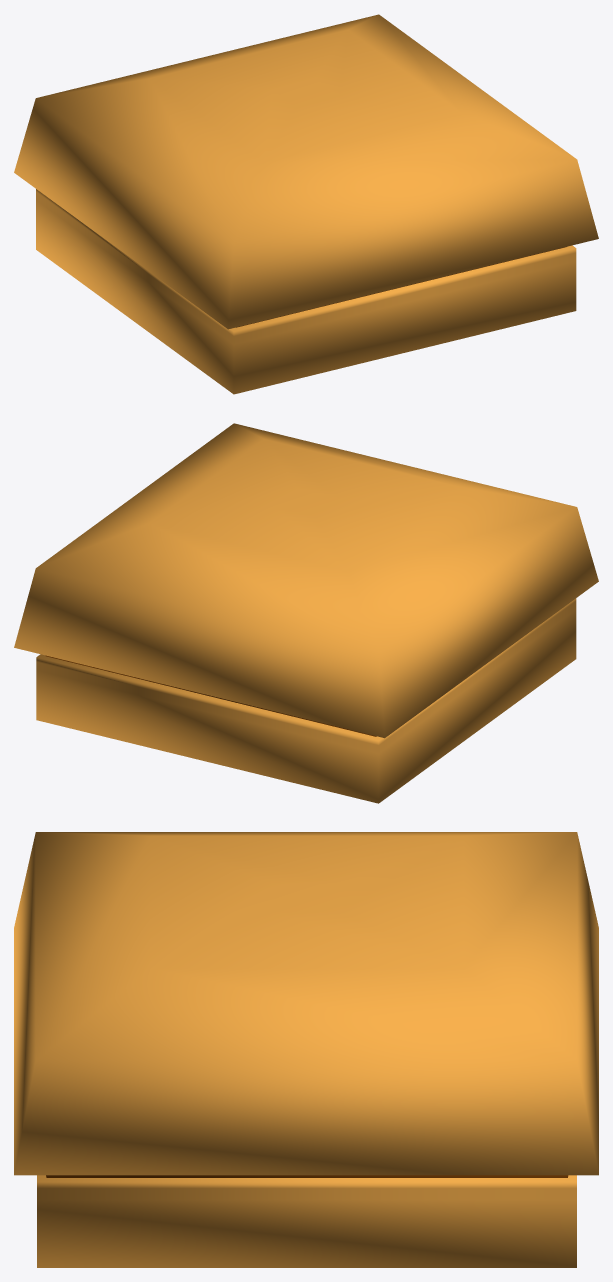
Rendered from hamburger.glb.
The picture shows the model from 3 angles, top to bottom: view 1: azimuth 30°, elevation 25°; view 2: azimuth 150°, elevation 25°; view 3: azimuth 270°, elevation 25°; orthographic projection. The views are drawn at different scales.
Parts seen in each view (by area): view 1: Cube.003, Cube.001; view 2: Cube.003, Cube.001; view 3: Cube.003, Cube.001, Cube.002.
Boxes of the visible parts, x1,y1,x2,y2 form: Cube.003: (14,14,598,329); Cube.001: (36,189,576,394); Cube.003: (14,423,598,738); Cube.001: (36,598,576,803); Cube.003: (14,832,598,1175); Cube.001: (37,1175,576,1267); Cube.002: (46,1175,568,1177).
Size of the model in its own units: 4.11 by 1.99 by 4.11.
